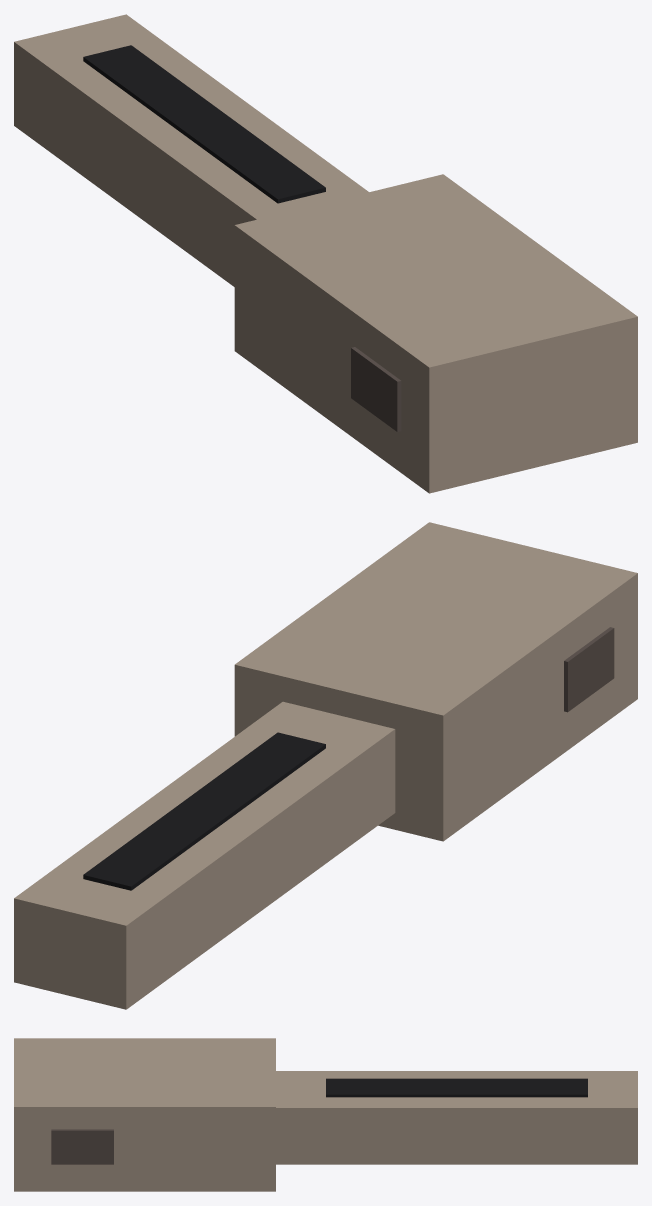
Rendered from vge_astropede_lance.obj.
The picture shows the model from 3 angles, top to bottom: view 1: azimuth 30°, elevation 25°; view 2: azimuth 150°, elevation 25°; view 3: azimuth 270°, elevation 25°; orthographic projection. The views are drawn at different scales.
Visible parts, largest first — view 1: vge_astropede_lance_0, vge_astropede_lance_2, vge_astropede_lance_3, vge_astropede_lance_1; view 2: vge_astropede_lance_0, vge_astropede_lance_2, vge_astropede_lance_3, vge_astropede_lance_1; view 3: vge_astropede_lance_0, vge_astropede_lance_2, vge_astropede_lance_3, vge_astropede_lance_1.
Part boxes in pixels (x1,y1,x2,y2): vge_astropede_lance_0: [234, 174, 637, 493]; vge_astropede_lance_2: [14, 14, 368, 286]; vge_astropede_lance_3: [83, 45, 325, 203]; vge_astropede_lance_1: [351, 347, 401, 431]; vge_astropede_lance_0: [234, 522, 637, 841]; vge_astropede_lance_2: [14, 701, 395, 1009]; vge_astropede_lance_3: [83, 732, 325, 890]; vge_astropede_lance_1: [564, 627, 614, 712]; vge_astropede_lance_0: [14, 1038, 275, 1191]; vge_astropede_lance_2: [276, 1071, 637, 1164]; vge_astropede_lance_3: [326, 1078, 587, 1097]; vge_astropede_lance_1: [51, 1129, 113, 1164].
Bounding box in the file's own units: 0.27 × 0.15 × 1.
